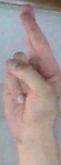R: (1, 3, 61, 147)
